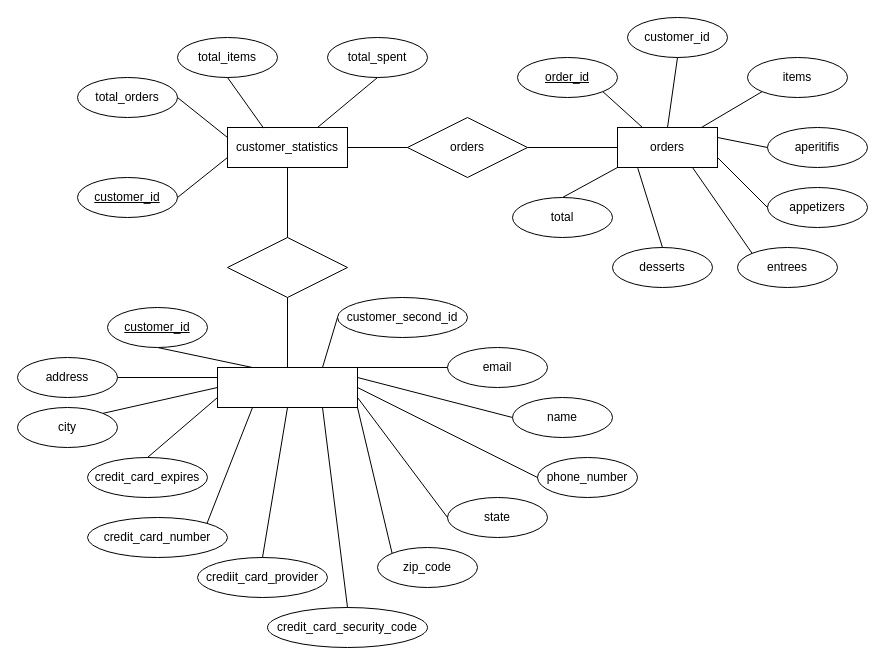
The diagram is 885 pixels wide and 665 high, and some of its shapes have lost their labels. Here are the shapes that lost their labels. From the top down, the centre of each, then its label:
At (x=287, y=267): "is".
At (x=287, y=387): "customer_demographics".
